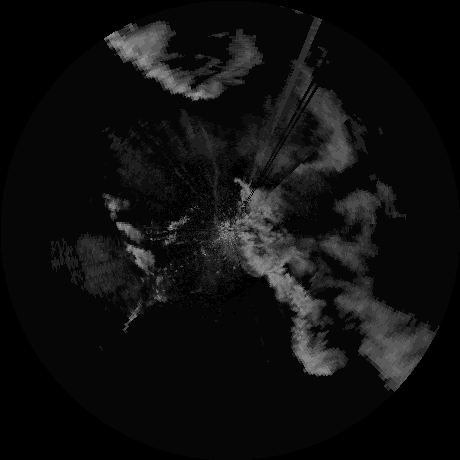frontgust: (207, 139, 221, 221)
